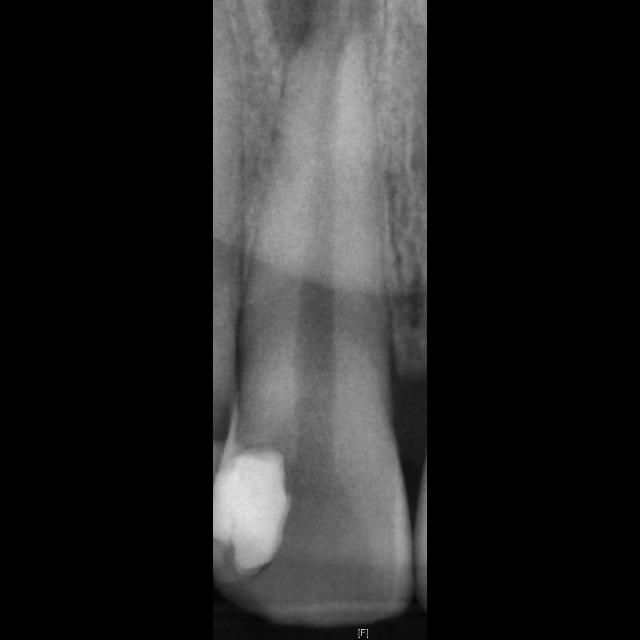tooth: (213, 0, 415, 626)
